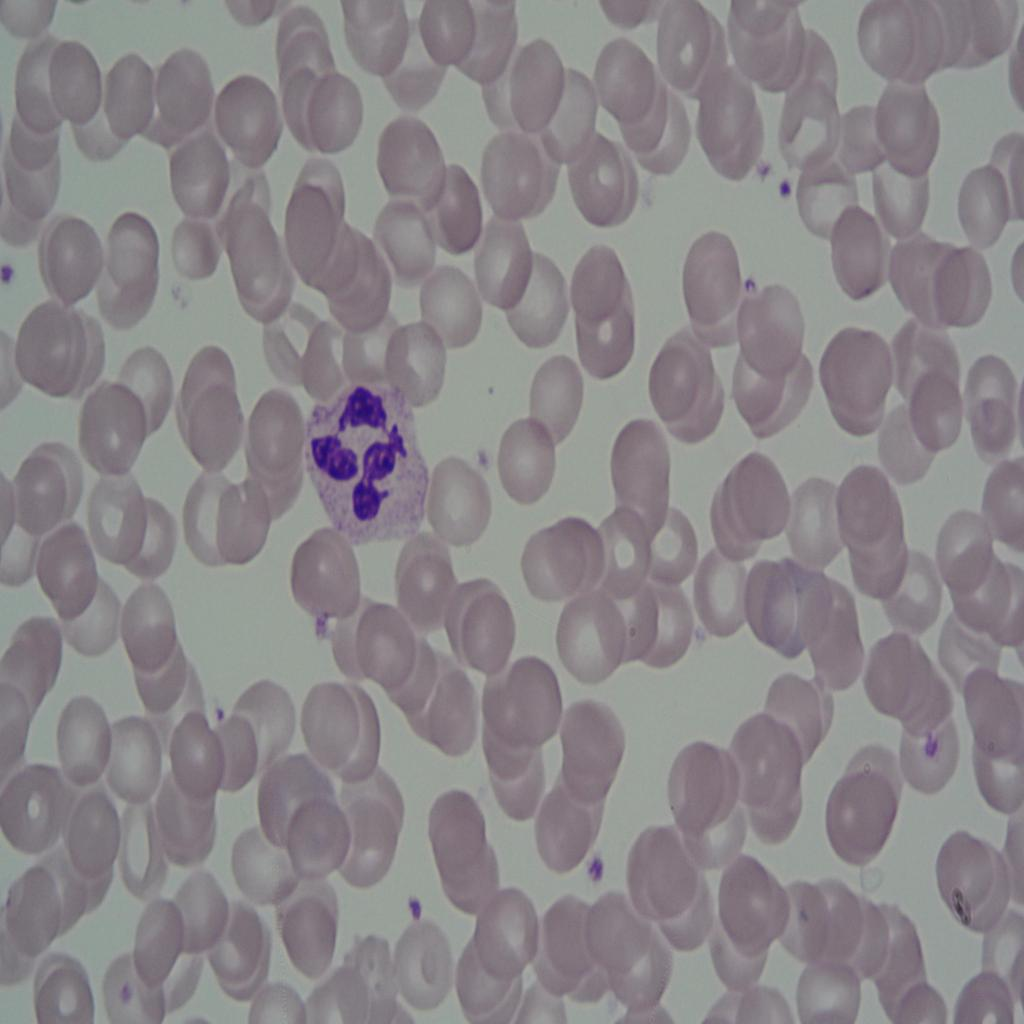Neutrofil: (296, 362, 442, 551)
Platelet: (308, 592, 341, 636), (750, 139, 778, 183), (0, 249, 28, 292), (920, 728, 946, 774), (109, 973, 143, 1008), (583, 845, 610, 886), (406, 892, 430, 936), (778, 170, 799, 212), (469, 436, 493, 472), (738, 273, 760, 300), (208, 701, 230, 722)
